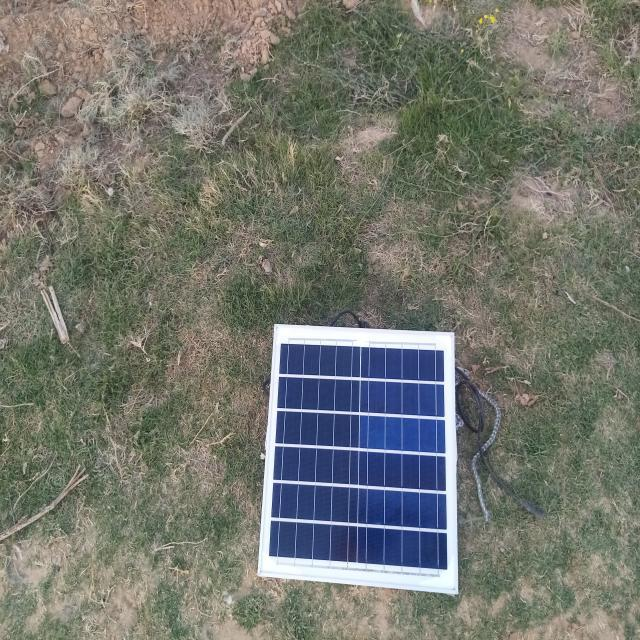no faulty: (262, 330, 457, 589)
